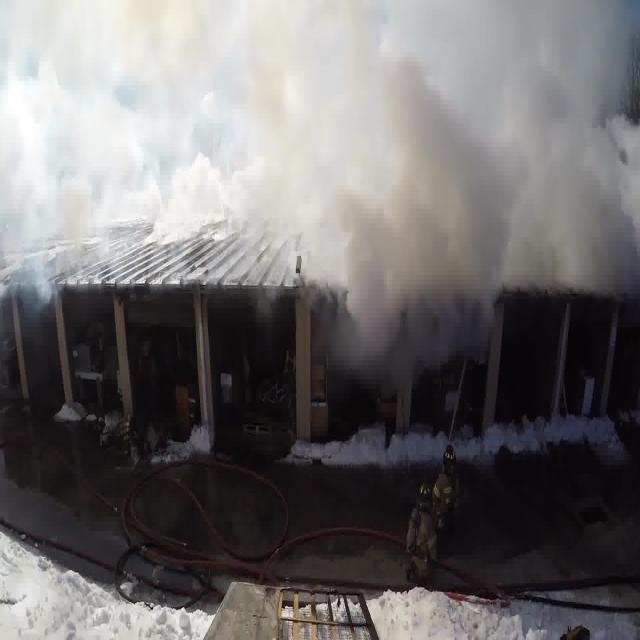Smoke: (0, 0, 638, 317)
